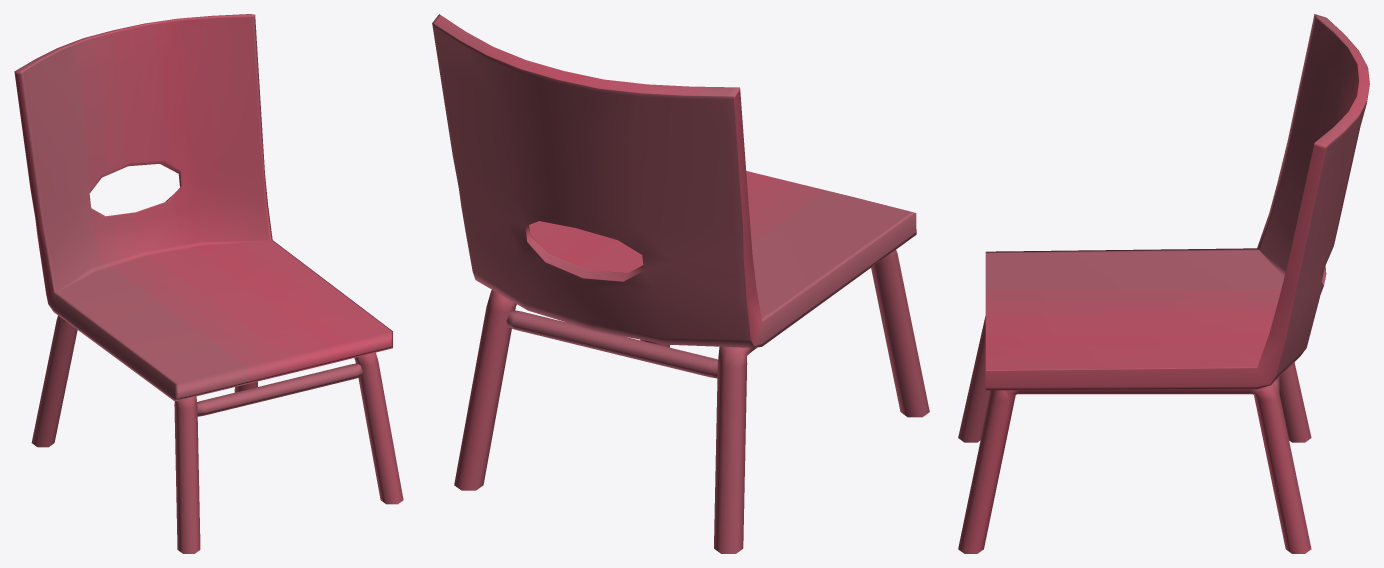
File: a_sch_class_obj_chair_red.gltf
3 renders of one model, left to right at view 1: azimuth 30°, elevation 25°; view 2: azimuth 150°, elevation 25°; view 3: azimuth 270°, elevation 25°, orthographic. The views are drawn at different scales.
Parts seen in each view (by area): view 1: a_sch_class_obj_chair_red_mesh_shape:a_sch_class_obj_chair_r; view 2: a_sch_class_obj_chair_red_mesh_shape:a_sch_class_obj_chair_r; view 3: a_sch_class_obj_chair_red_mesh_shape:a_sch_class_obj_chair_r.
Boxes of the visible parts, x1=… form: a_sch_class_obj_chair_red_mesh_shape:a_sch_class_obj_chair_r: x1=14, y1=14, x2=403, y2=553; a_sch_class_obj_chair_red_mesh_shape:a_sch_class_obj_chair_r: x1=432, y1=14, x2=929, y2=553; a_sch_class_obj_chair_red_mesh_shape:a_sch_class_obj_chair_r: x1=958, y1=14, x2=1369, y2=553.
Size of the model in its own units: 0.5285 by 0.7921 by 0.7121.
1 material, 1 textured.
